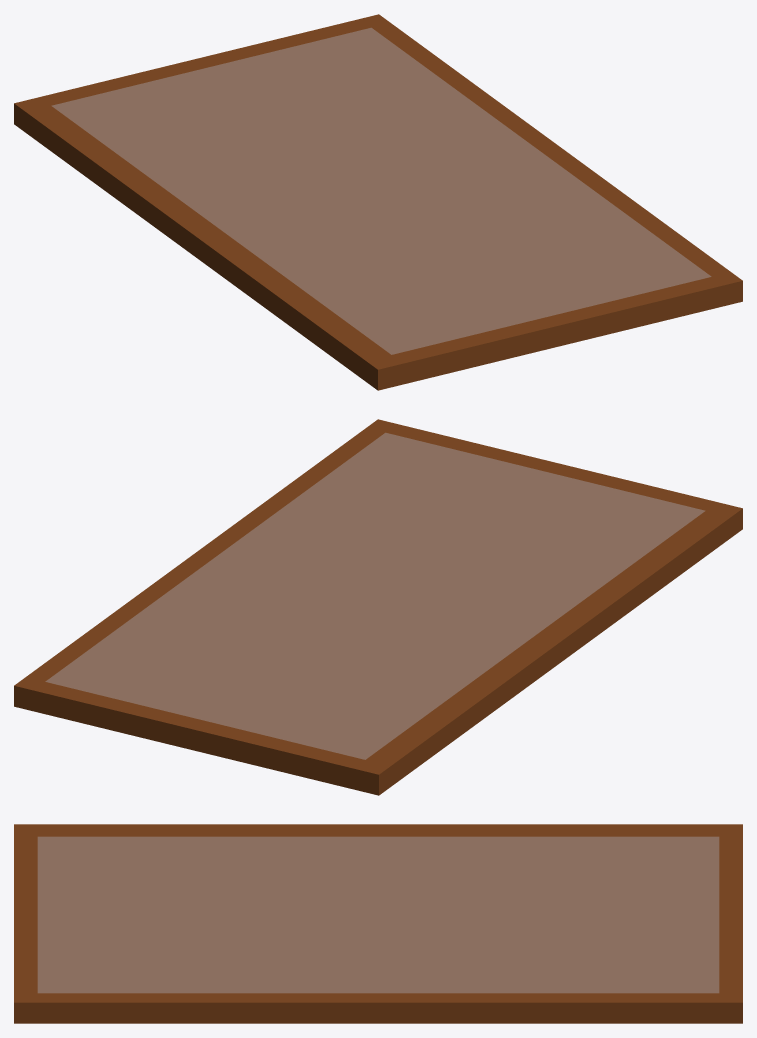
File: Drain hole.fbx
The picture shows the model from 3 angles, top to bottom: view 1: azimuth 30°, elevation 25°; view 2: azimuth 150°, elevation 25°; view 3: azimuth 270°, elevation 25°; orthographic projection.
Parts seen in each view (by area): view 1: Cube; view 2: Cube; view 3: Cube.
Boxes of the visible parts, box(x1,y1,x2,y2) form: Cube: box(14, 14, 742, 390); Cube: box(14, 419, 742, 795); Cube: box(14, 824, 742, 1023).
Bounding box in the file's own units: 199 × 10.92 × 344.
